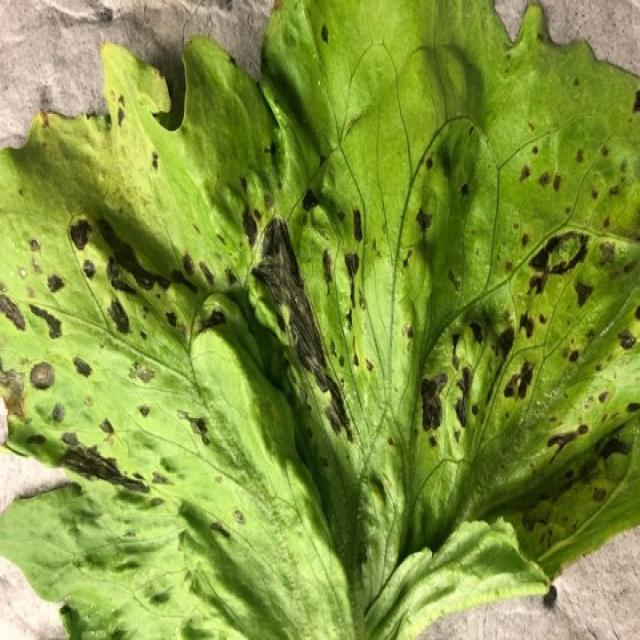Bacterial: (406, 142, 634, 494), (216, 176, 384, 444), (58, 198, 194, 388)
